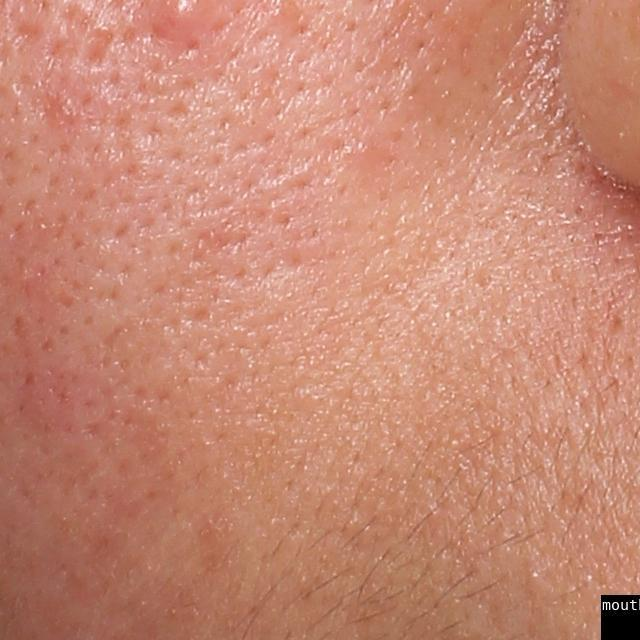atrophic_scar: (72, 26, 117, 77), (9, 20, 46, 46)
